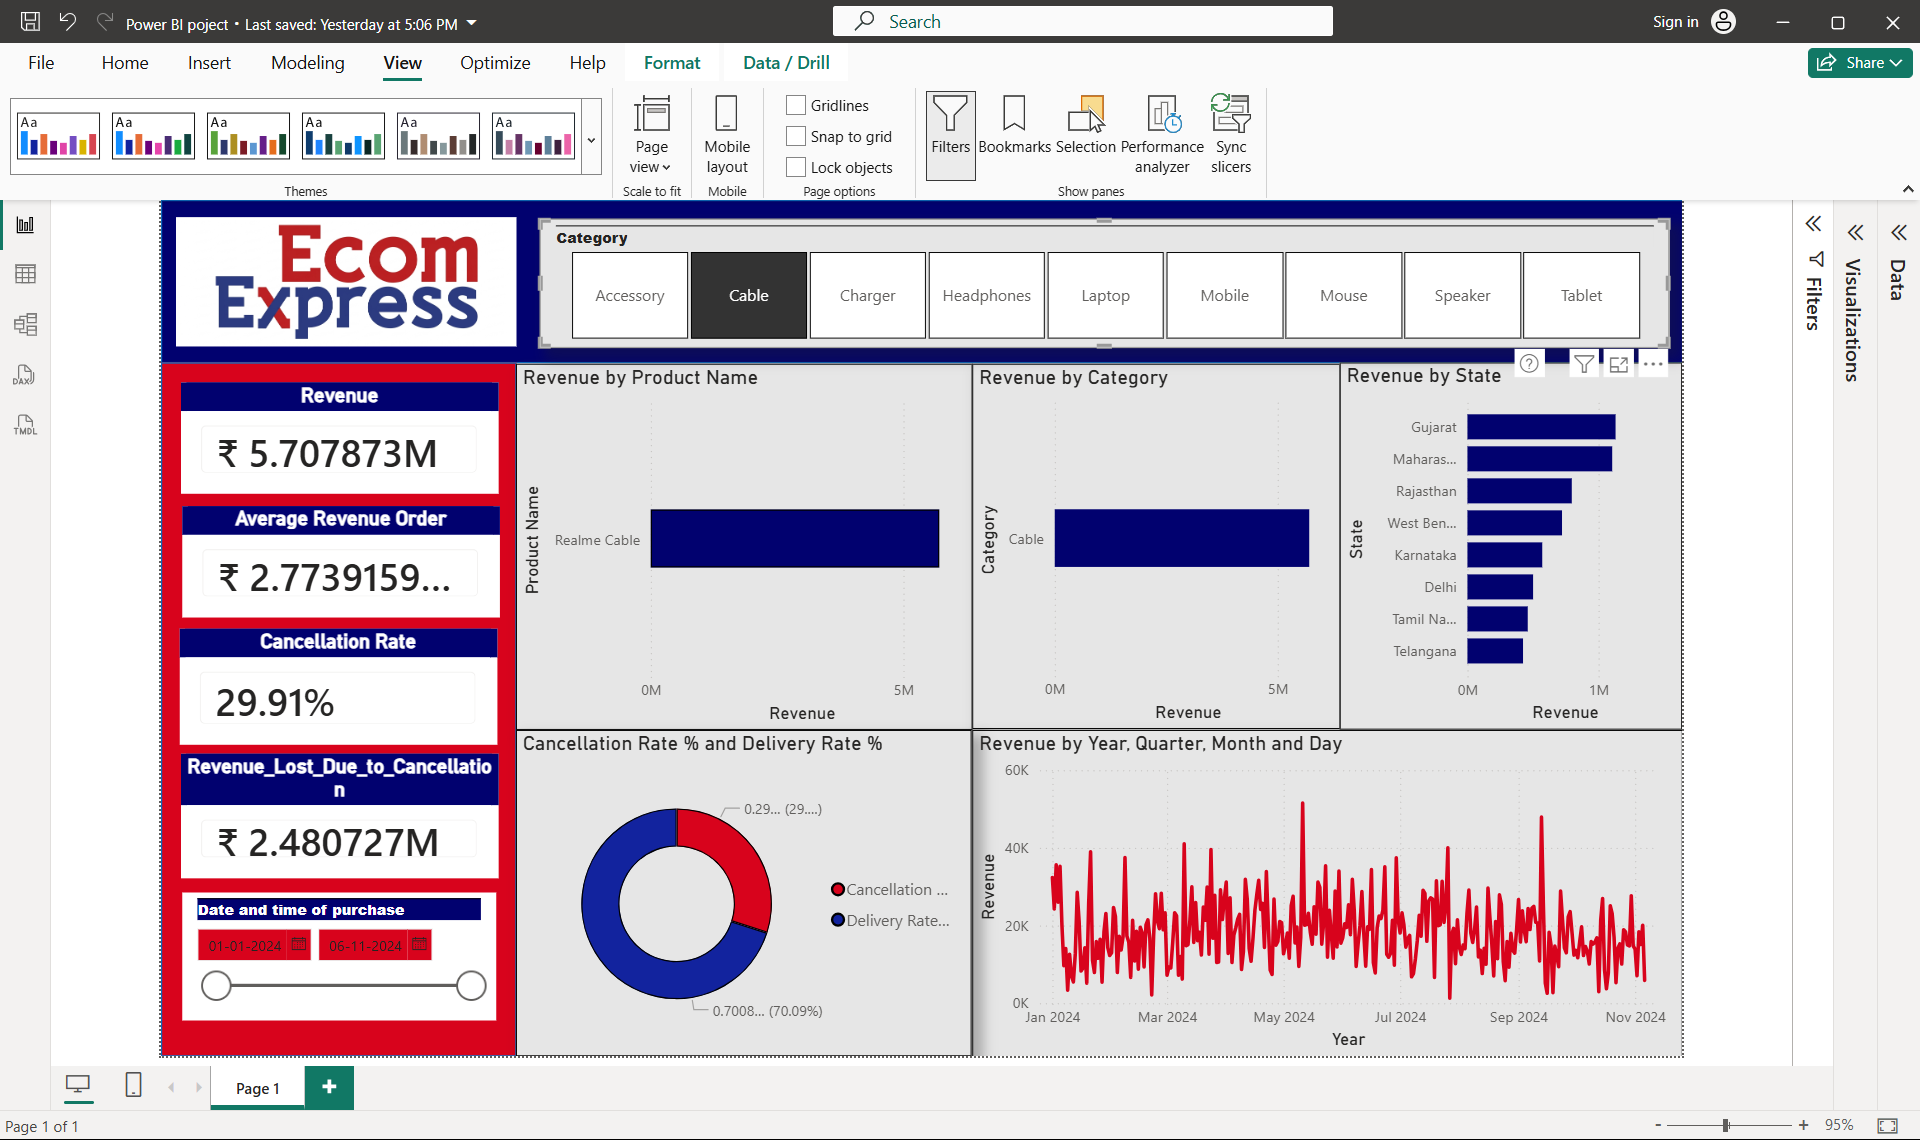

The page's visual inventory and layout, read from the dashboard file:
{"tool":"powerbi","page":{"name":"Page 1","canvas":[1280,720],"ordinal":0},"visuals":[{"type":"shape","box":[0,0,1280.3,137.2],"z":0},{"type":"shape","box":[0,136.9,299,583.6],"z":1000},{"type":"image","box":[12.3,0,286.8,137.2],"z":2000},{"type":"barChart","fields":{"Y":["table.Revenue"],"Category":["Products.Product Name"]},"box":[298.6,137.7,383.8,308.1],"z":3000},{"type":"barChart","fields":{"Category":["Products.Category"],"Y":["table.Revenue"]},"box":[682,138.1,309.8,307.4],"z":4000},{"type":"lineChart","fields":{"Category":["Orders.Date and time of purchase.Variation.Date Hierarchy.Year","Orders.Date and time of purchase.Variation.Date Hierarchy.Quarter","Orders.Date and time of purchase.Variation.Date Hierarchy.Month","Orders.Date and time of purchase.Variation.Date Hierarchy.Day"],"Y":["table.Revenue"]},"box":[682,445.5,598,275],"z":5000},{"type":"barChart","fields":{"Category":["Customers.State"],"Y":["table.Revenue"]},"box":[991.8,136.9,288.2,308.6],"z":6000},{"type":"slicer","fields":{"Values":["Products.Category"]},"box":[318.6,15.4,950.2,109],"z":7000},{"type":"cardVisual","title":"Revenue","fields":{"Data":["table.Revenue"]},"box":[16.8,153.7,266.9,93.6],"z":8000},{"type":"cardVisual","title":"Average Revenue Order","fields":{"Data":["table.AverageRevenueOrder"]},"box":[18.2,257.1,266.9,93.6],"z":9000},{"type":"cardVisual","title":"Cancellation Rate","fields":{"Data":["table.Cancellation Rate"]},"box":[15.4,360.5,266.9,97.8],"z":10000},{"type":"cardVisual","title":"Revenue_Lost_Due_to_Cancellation","fields":{"Data":["table.Revenue_Lost"]},"box":[16.8,465.3,266.9,104.8],"z":11000},{"type":"slicer","fields":{"Values":["Orders.Date and time of purchase"]},"box":[18.2,582.7,264.1,107.6],"z":12000},{"type":"donutChart","fields":{"Y":["table.Cancellation Rate","table.Delivery Rate %"]},"box":[299,446,383,274],"z":13000}]}

Visuals, with their boxes on the page's 1280x720 design canvas (x1, y1, x2, y2). These are canvas units, not pixel positions in the 1920x1140 screenshot, which may show the page scaled, cropped or inside an application window:
shape: [0,0,1280,137]
shape: [0,137,299,720]
image: [12,0,299,137]
barChart - table.Revenue x Products.Product Name: [299,138,682,446]
barChart - Products.Category x table.Revenue: [682,138,992,446]
lineChart - Orders.Date and time of purchase.Variation.Date Hierarchy.Year x Orders.Date and time of purchase.Variation.Date Hierarchy.Quarter: [682,446,1280,720]
barChart - Customers.State x table.Revenue: [992,137,1280,446]
slicer - Products.Category: [319,15,1269,124]
"Revenue" cardVisual: [17,154,284,247]
"Average Revenue Order" cardVisual: [18,257,285,351]
"Cancellation Rate" cardVisual: [15,360,282,458]
"Revenue_Lost_Due_to_Cancellation" cardVisual: [17,465,284,570]
slicer - Orders.Date and time of purchase: [18,583,282,690]
donutChart - table.Cancellation Rate x table.Delivery Rate %: [299,446,682,720]
